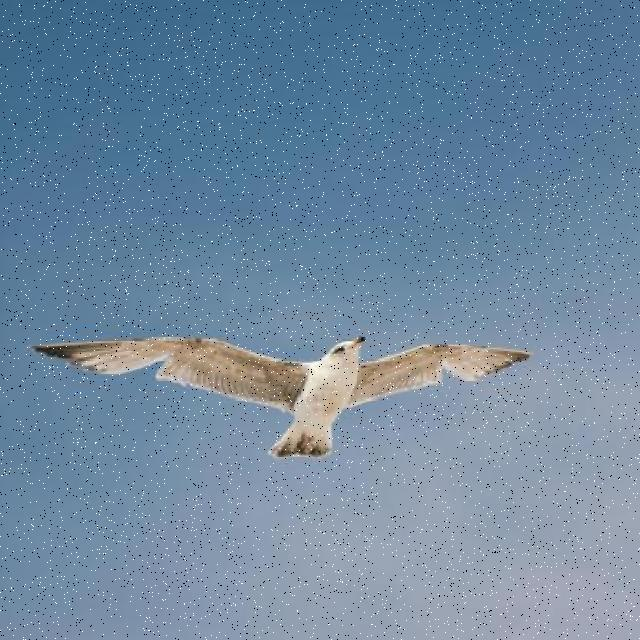bird: (25, 333, 532, 461)
